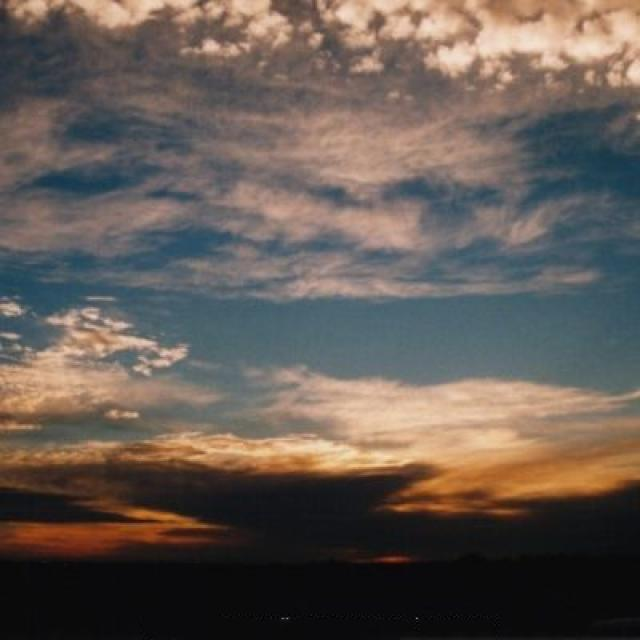As: (1, 19, 640, 456)
